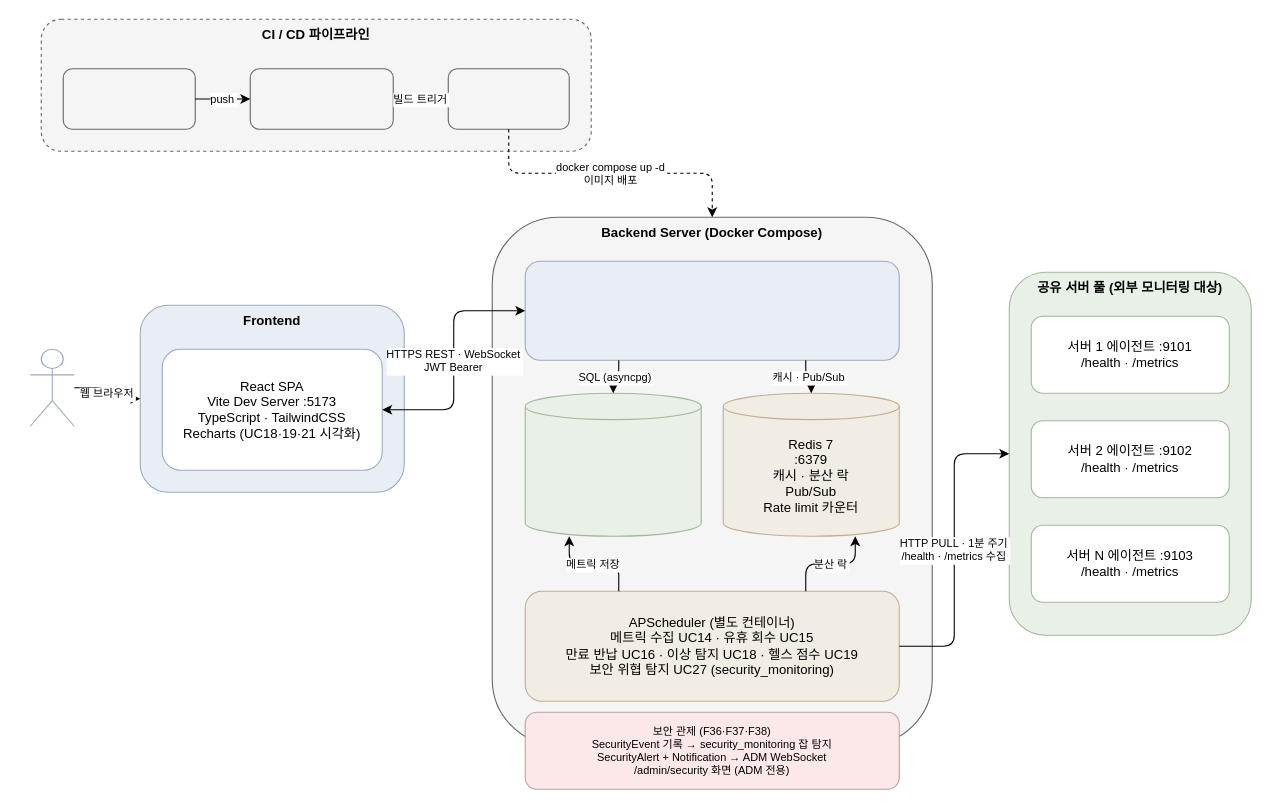
Some shapes in this 1271 by 809 pixel diagram are drawn without their labels. Each missing label, with the centre of its shape:
Client 학생 · 관리자: [51,387]
Docker 이미지 빌드: [508,98]
FastAPI :8000 REST · WebSocket API 예약 · 승인 · 서버 · 인증: [711,310]
GitHub Actions CI · 테스트 · 빌드: [321,98]
GitHub 소스 저장소: [128,98]
PostgreSQL 16 :5432 메인 데이터 저장소 사용자 · 예약 · 서버 메트릭 · 감사 로그: [612,464]
